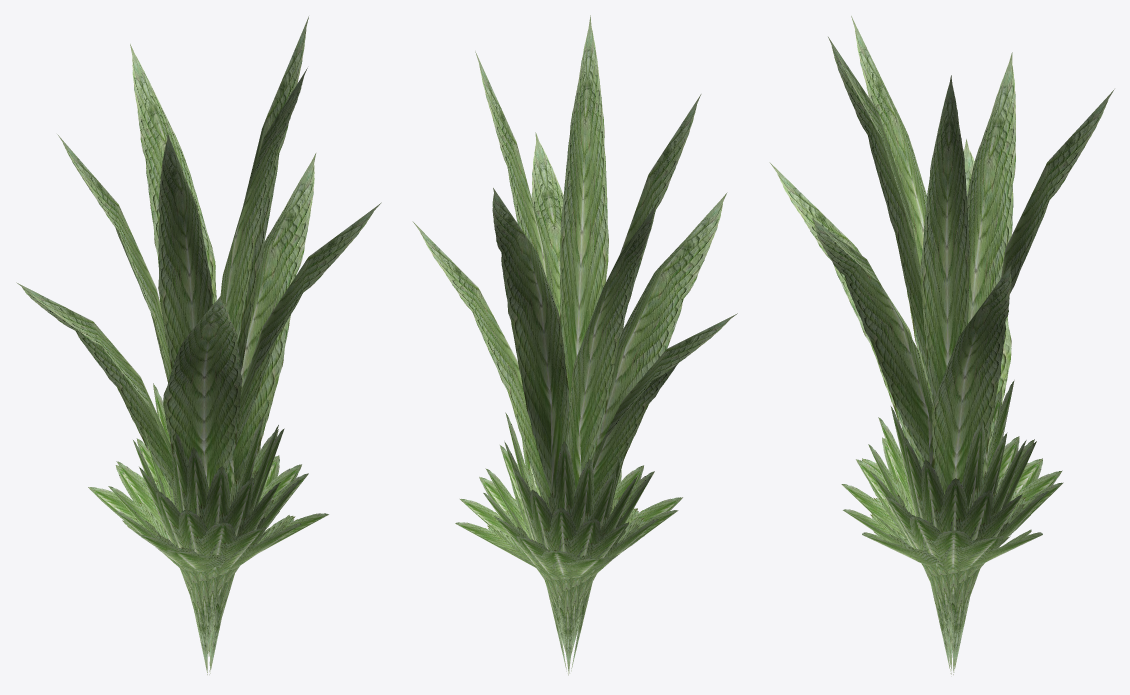
File: Indoor plant 3 Mine without pot.fbx
3 views of the same model, side by side, from view 1: azimuth 30°, elevation 25°; view 2: azimuth 150°, elevation 25°; view 3: azimuth 270°, elevation 25° (orthographic). The views are drawn at different scales.
Parts seen in each view (by area): view 1: Low-Poly Plant_.001; view 2: Low-Poly Plant_.001; view 3: Low-Poly Plant_.001.
Part boxes in pixels (x1,y1,x2,y2): Low-Poly Plant_.001: [16, 16, 381, 674]; Low-Poly Plant_.001: [412, 15, 737, 675]; Low-Poly Plant_.001: [769, 16, 1114, 674].
Size of the model in its own units: 65.33 by 125 by 59.29.
Materials: 1 (1 with a texture image).
